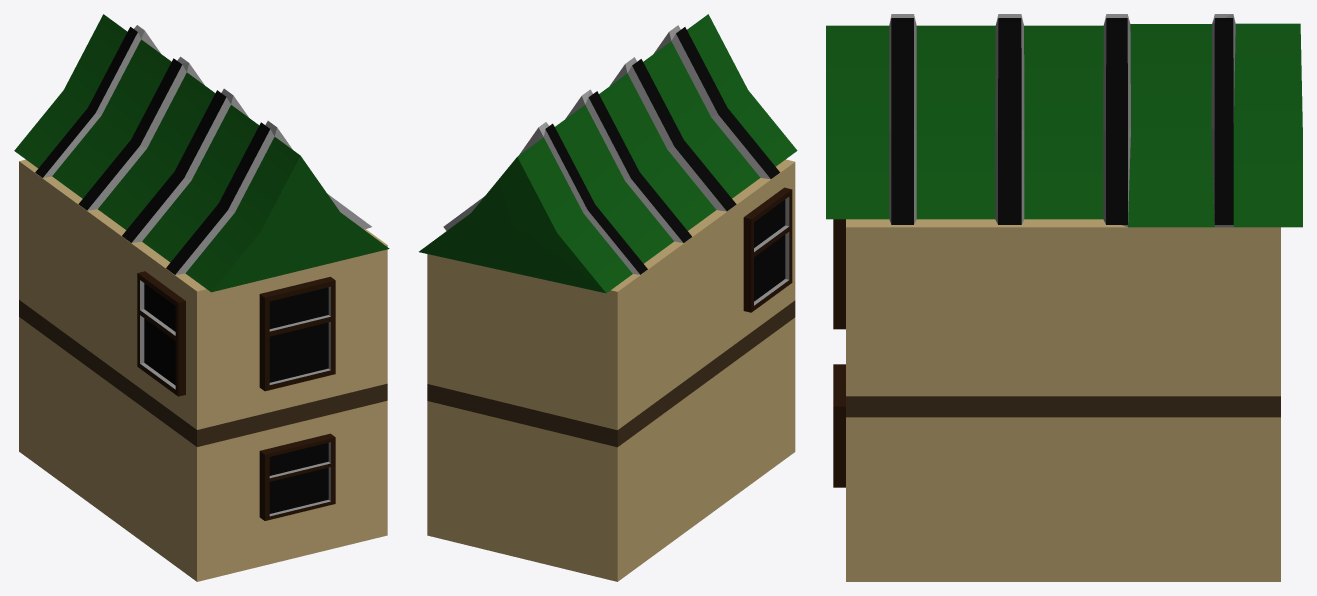
File: buildingPart2.FBX
3 renders of one model, left to right at view 1: azimuth 30°, elevation 25°; view 2: azimuth 150°, elevation 25°; view 3: azimuth 270°, elevation 25°, orthographic. The views are drawn at different scales.
Parts seen in each view (by area): view 1: Box002, Box004, Box009, Box010, Box008; view 2: Box002, Box004, Box008; view 3: Box002, Box004, Box010, Box009.
Part boxes in pixels (x1=…): Box002: x1=19, y1=159, x2=387, y2=581; Box004: x1=14, y1=14, x2=389, y2=292; Box009: x1=259, y1=276, x2=335, y2=391; Box010: x1=259, y1=433, x2=335, y2=520; Box008: x1=137, y1=271, x2=185, y2=396; Box002: x1=427, y1=159, x2=795, y2=581; Box004: x1=419, y1=14, x2=797, y2=293; Box008: x1=743, y1=187, x2=792, y2=312; Box002: x1=846, y1=219, x2=1280, y2=581; Box004: x1=826, y1=14, x2=1302, y2=227; Box010: x1=833, y1=364, x2=845, y2=487; Box009: x1=833, y1=219, x2=845, y2=329.
Bounding box in the file's own units: 42.32 × 83.61 × 70.97.
